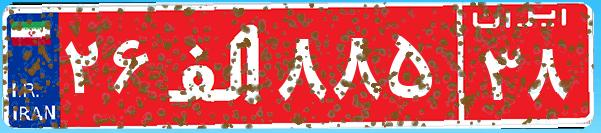2: (57, 26, 110, 107)
3: (475, 38, 525, 113)
5: (385, 28, 445, 110)
6: (110, 28, 158, 105)
8: (273, 28, 330, 110), (330, 28, 385, 110), (525, 38, 570, 115)
الف: (158, 15, 273, 115)
